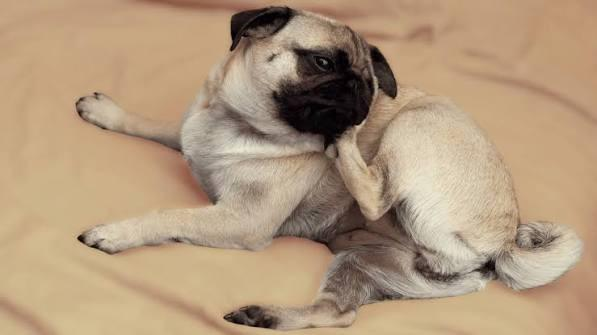adult_dog: (76, 5, 584, 329)
